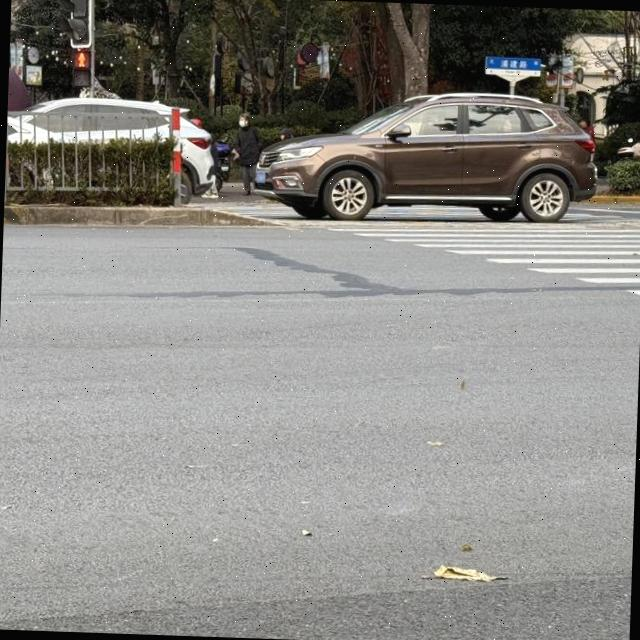curb: (3, 204, 283, 225), (584, 194, 640, 203)
